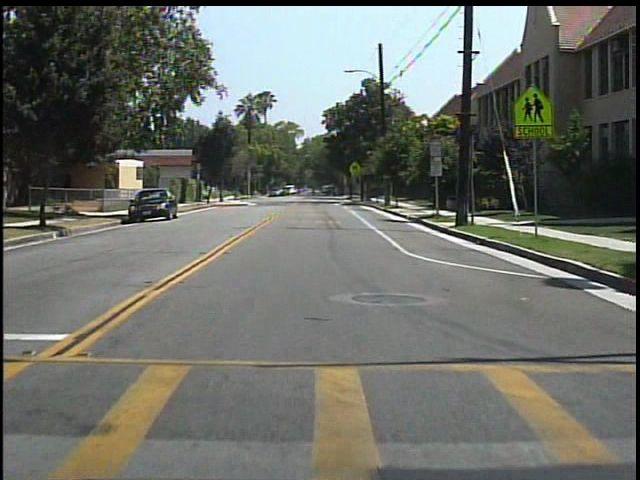person: (306, 182, 321, 200)
